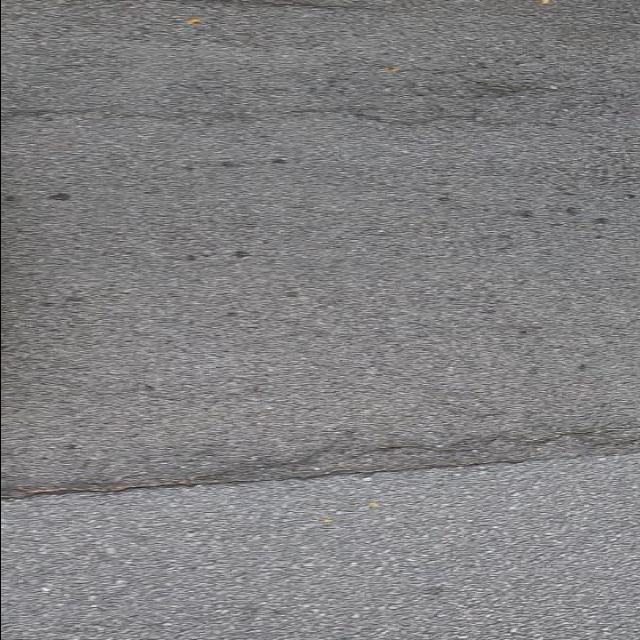cracks: (1, 0, 640, 159), (1, 381, 640, 536)
